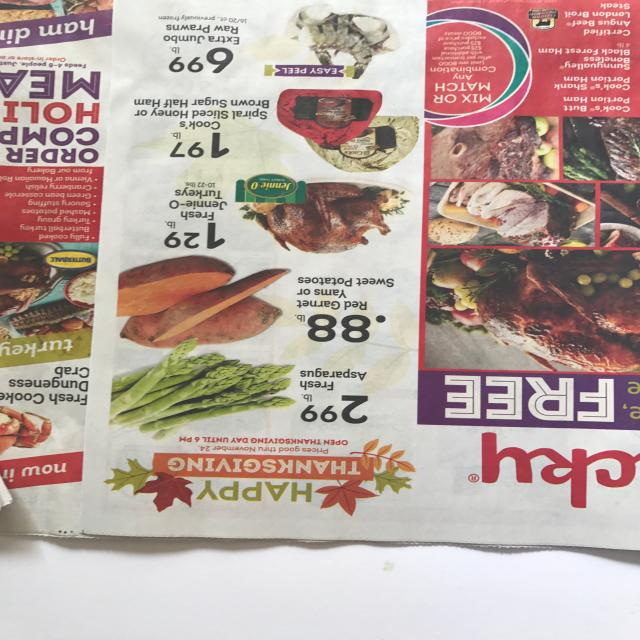paper: (2, 0, 638, 552)
